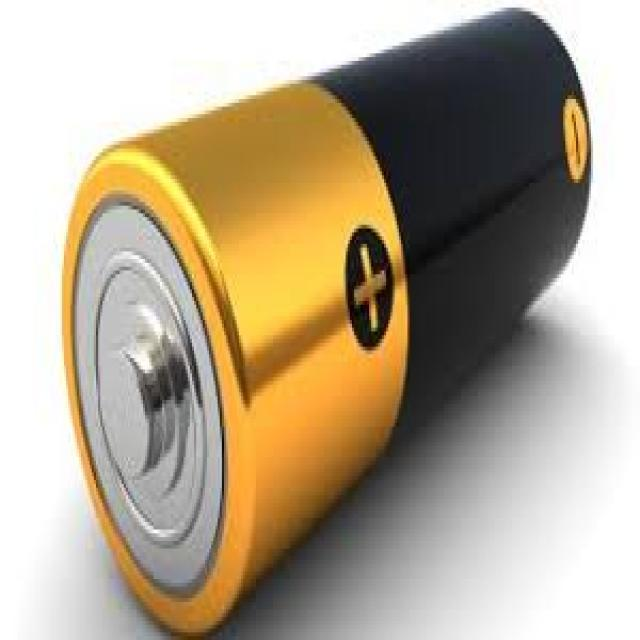Battery: (55, 4, 603, 639)
